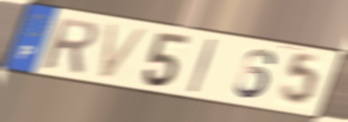5: (141, 30, 193, 90), (278, 50, 325, 112)
6: (235, 48, 277, 100)
I: (186, 37, 219, 95)
R: (40, 15, 100, 75)
V: (96, 21, 152, 82)
